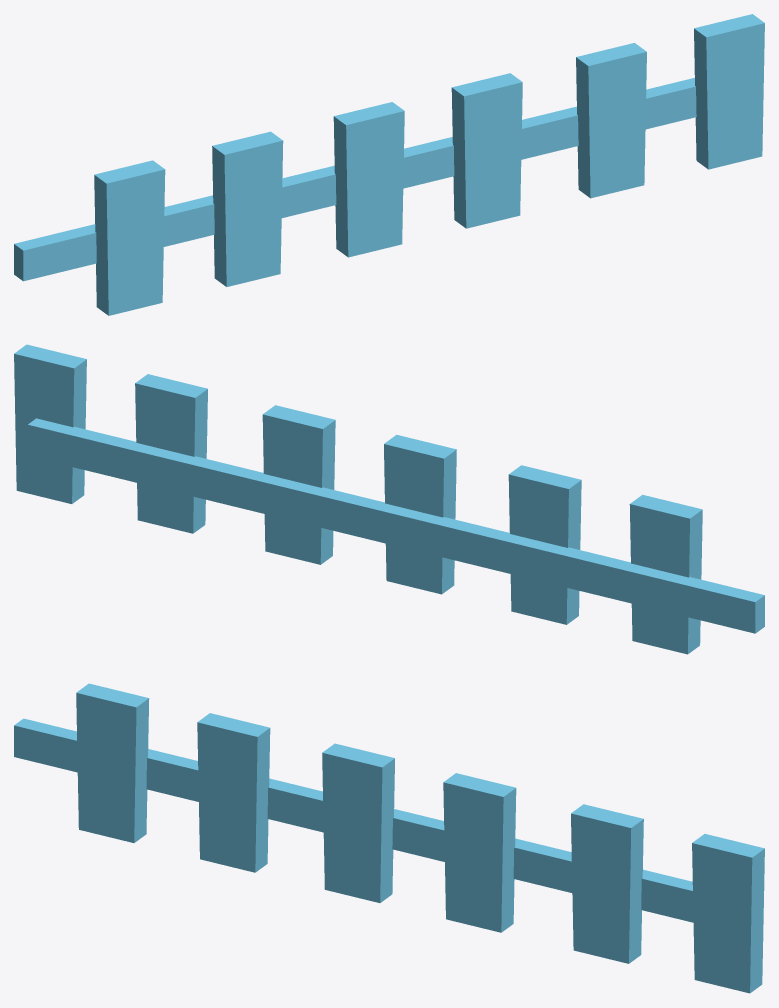
Rendered from fence01_s02.FBX.
The picture shows the model from 3 angles, top to bottom: view 1: azimuth 30°, elevation 25°; view 2: azimuth 150°, elevation 25°; view 3: azimuth 330°, elevation 25°; orthographic projection. The views are drawn at different scales.
Parts seen in each view (by area): view 1: fence01_s02; view 2: fence01_s02; view 3: fence01_s02.
Boxes of the visible parts, box(x1,y1,x2,y2) form: fence01_s02: box(14, 14, 764, 315); fence01_s02: box(14, 344, 764, 654); fence01_s02: box(14, 683, 764, 993).
Size of the model in its own units: 586 by 28.73 by 102.
Materials: 1 (1 with a texture image).
